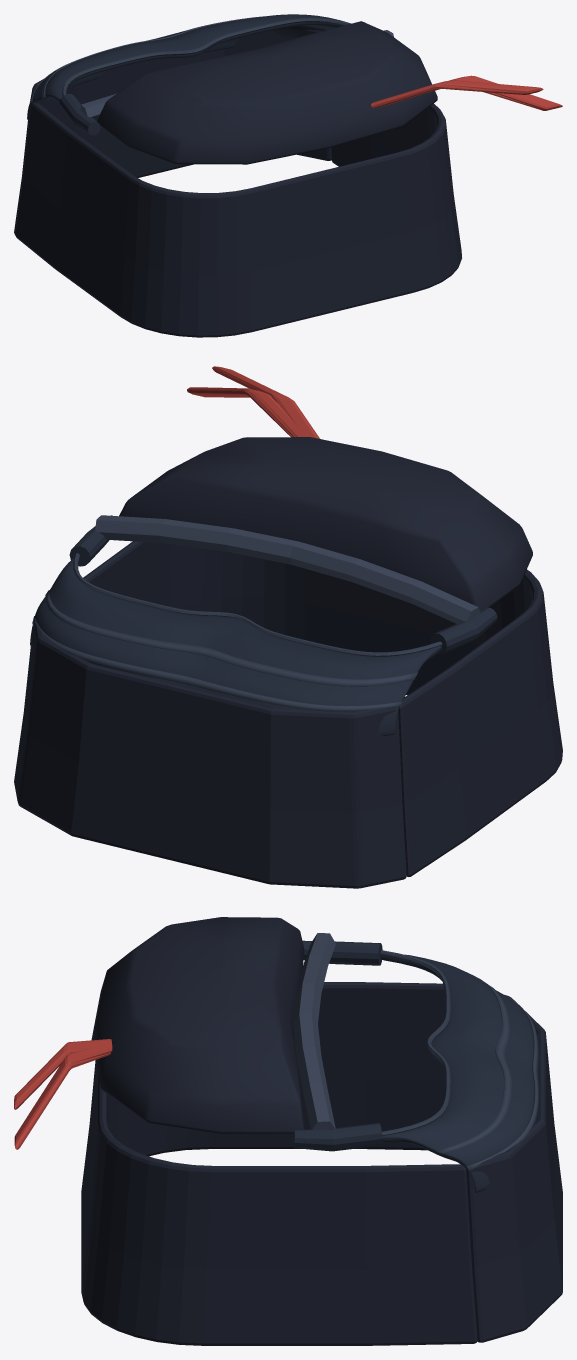
Rendered from ninja.fbx.
3 views of the same model, one above another, from view 1: azimuth 30°, elevation 25°; view 2: azimuth 150°, elevation 25°; view 3: azimuth 270°, elevation 25° (orthographic). The views are drawn at different scales.
Parts seen in each view (by area): view 1: ninja_armor; view 2: ninja_armor; view 3: ninja_armor.
Part boxes in pixels (bbox=[...]): ninja_armor: bbox=[14, 14, 562, 337]; ninja_armor: bbox=[14, 366, 562, 888]; ninja_armor: bbox=[14, 917, 562, 1345].
Bounding box in the file's own units: 4.71 × 2.68 × 4.83.
1 material, 1 textured.
